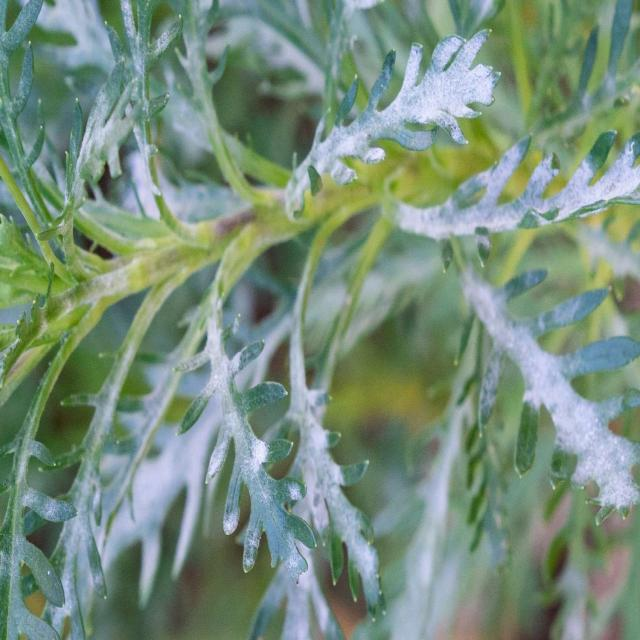Powdery Mildew: (458, 261, 639, 520), (284, 26, 502, 222), (172, 297, 318, 585)
